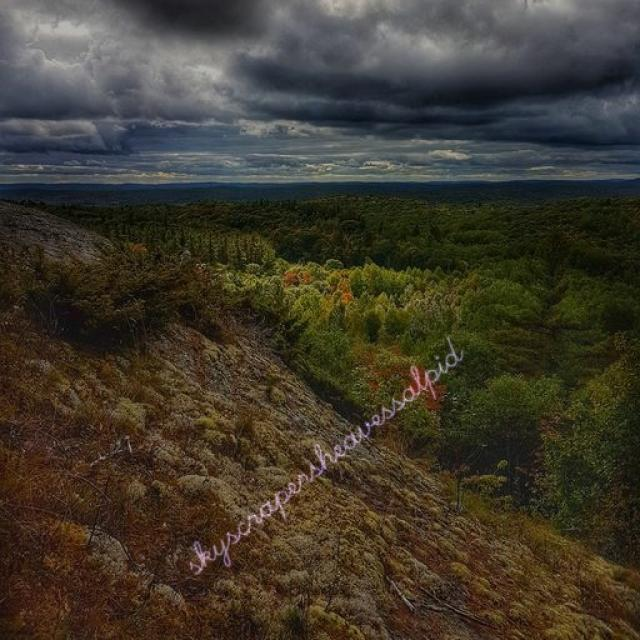watermark: (186, 327, 465, 580)
